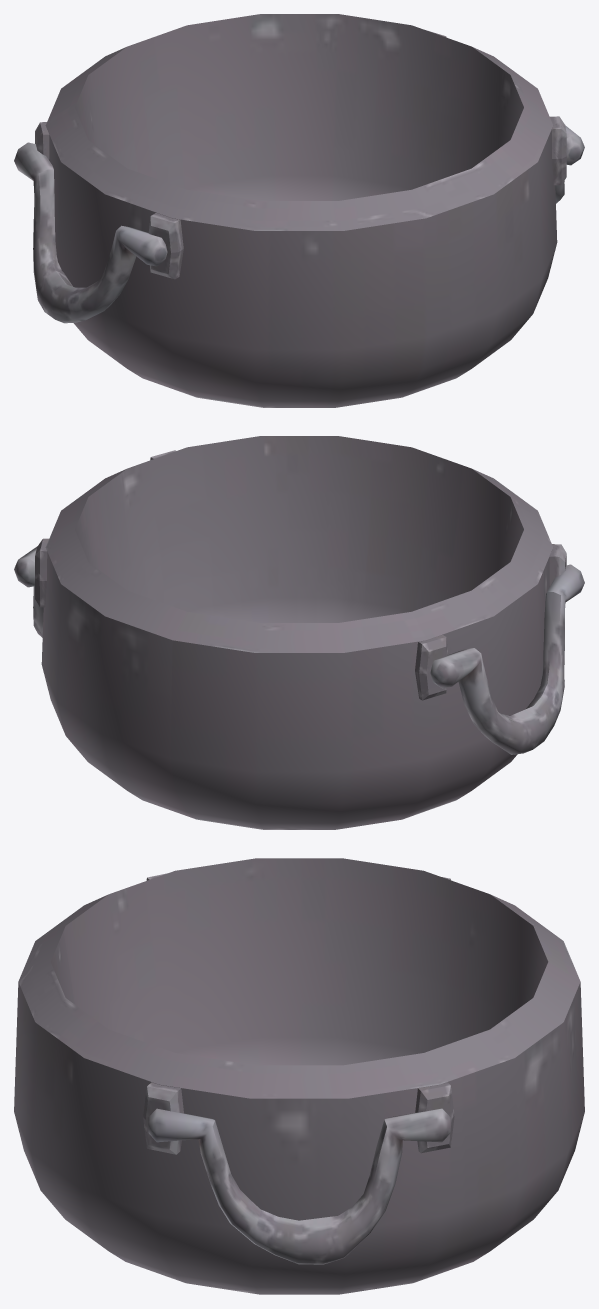
The model's file is pot_1.glb.
The picture shows the model from 3 angles, top to bottom: view 1: azimuth 30°, elevation 25°; view 2: azimuth 150°, elevation 25°; view 3: azimuth 270°, elevation 25°; orthographic projection. The views are drawn at different scales.
Visible parts, largest first — view 1: Pot_1; view 2: Pot_1; view 3: Pot_1.
Boxes of the visible parts, x1,y1,x2,y2 form: Pot_1: [14, 14, 584, 407]; Pot_1: [14, 436, 584, 829]; Pot_1: [14, 858, 584, 1294].
Size of the model in its own units: 0.5393 by 0.2238 by 0.4861.
Materials: 1 (1 with a texture image).
